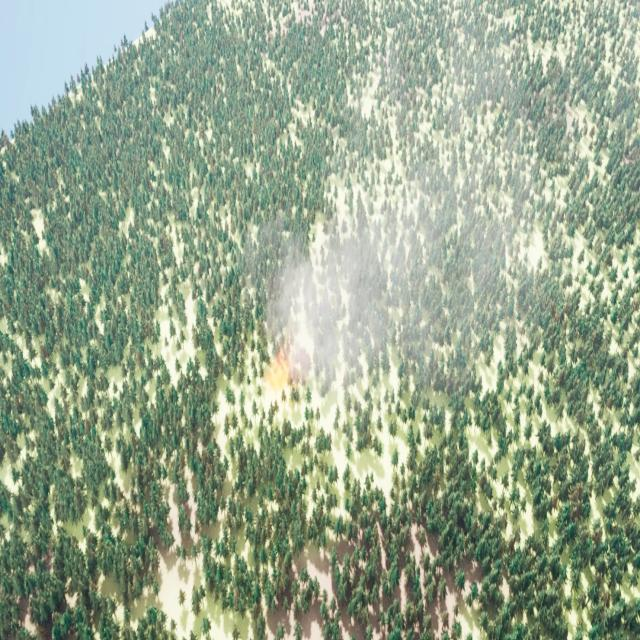fire: (261, 353, 294, 386)
smoke: (248, 45, 527, 367)
